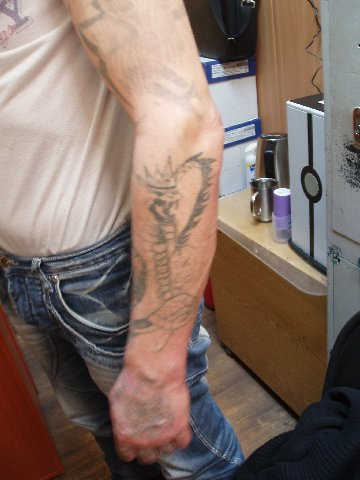tatu7_zmeya: (131, 156, 218, 336)
